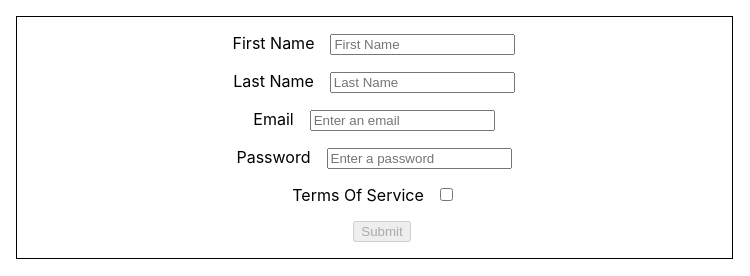
Test: Onboarding Form › Filling out inputs and submit button enabled › submit button enables when all inputs are filled out
This screenshot has width=750, height=276.
Type "fname" into the field named "first_name".
click(424, 45); type("fname")  # box 331,34 -> 516,55
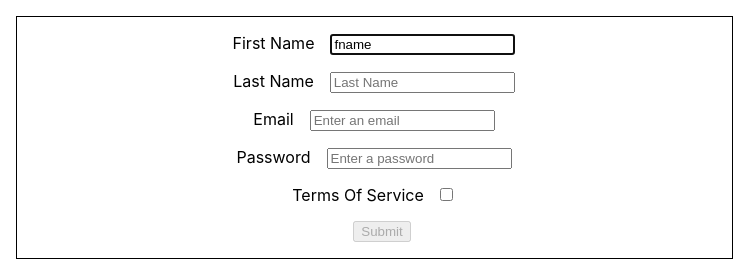
Type "lname" into the field named "last_name".
click(423, 83); type("lname")  # box 330,72 -> 515,93
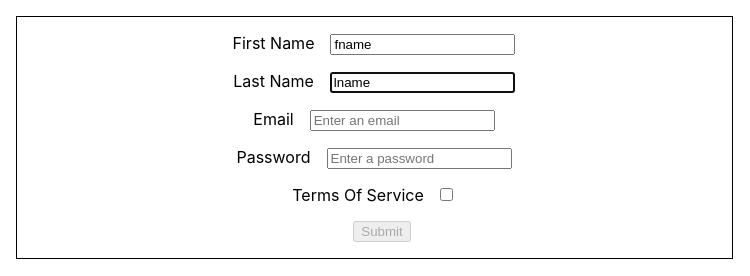
Type "e@mail.com" into the field named "email".
click(403, 121); type("e@mail.com")  # box 310,110 -> 495,131
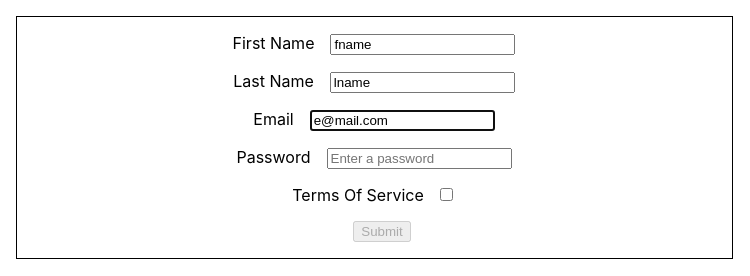
Type "password" into the password field named "password".
click(420, 159); type("password")  # box 327,148 -> 512,169
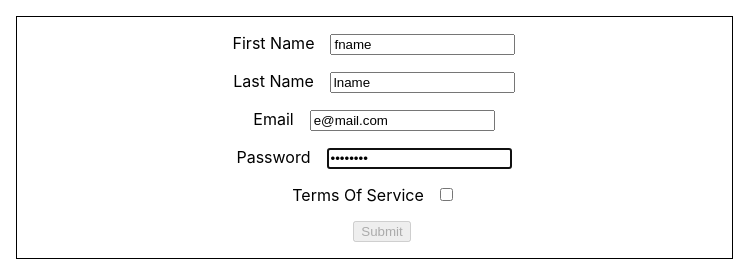
Check the checkbox named "ToS_agreed".
click(447, 195)  # box 440,188 -> 453,201
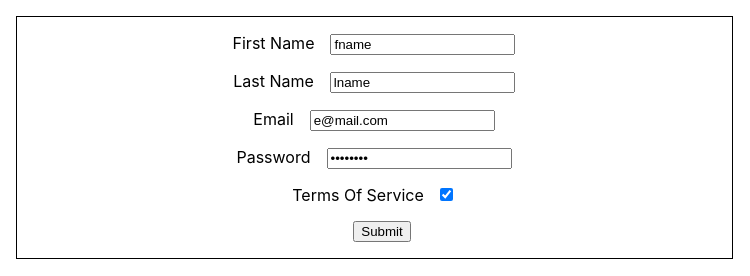
Expected: the button with id "submitBtn" is enabled, 353,221 -> 411,242
